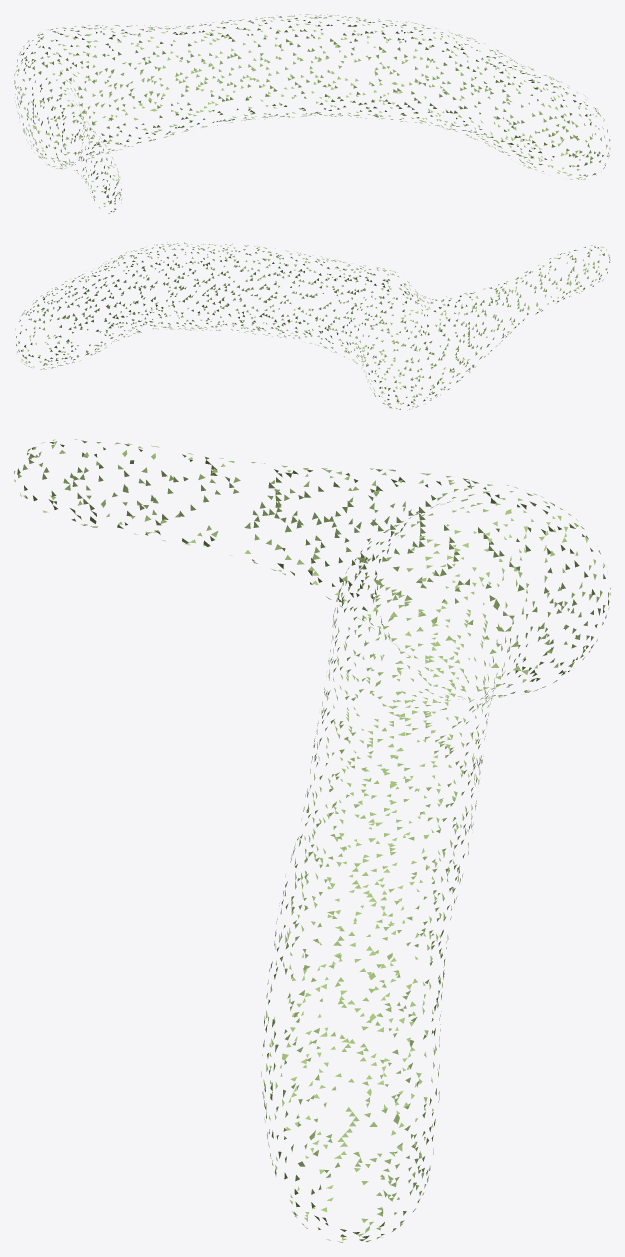
Rendered from morph_012.glb.
The picture shows the model from 3 angles, top to bottom: view 1: azimuth 30°, elevation 25°; view 2: azimuth 150°, elevation 25°; view 3: azimuth 270°, elevation 25°; orthographic projection. The views are drawn at different scales.
Bounding box in the file's own units: 118 × 43.8 × 62.51.
